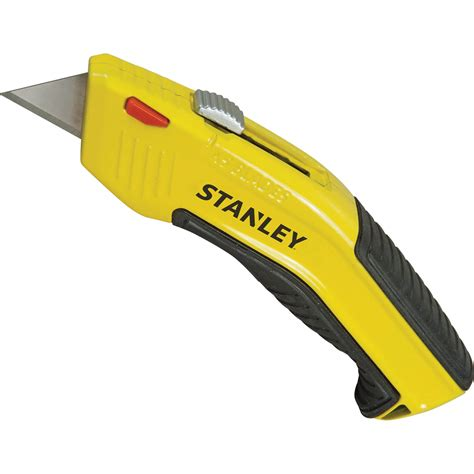knife: (3, 37, 469, 426)
